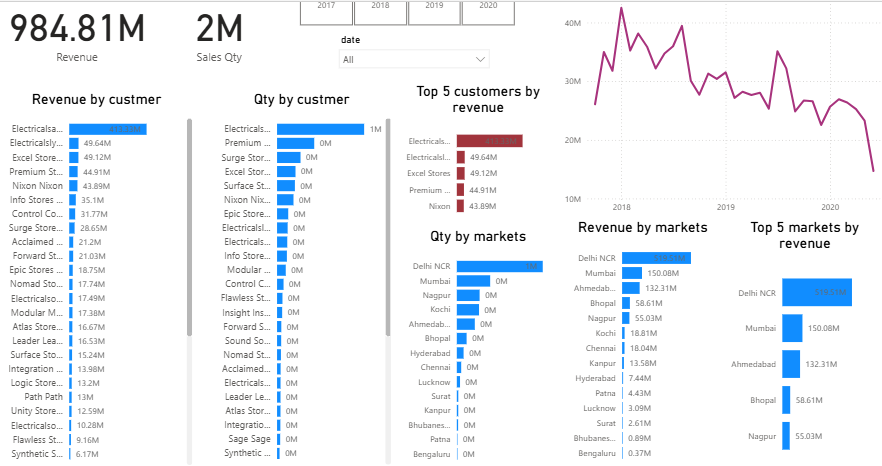

The dashboard page shown, as its layout file describes it:
{"tool":"powerbi","page":{"name":"Page 1","canvas":[1280,720],"ordinal":0},"visuals":[{"type":"card","fields":{"Values":["BaseMeasure.Revenue"]},"box":[0,0,230.4,176.7],"z":0},{"type":"card","fields":{"Values":["BaseMeasure.Sales Qty"]},"box":[230.4,0,179.3,176.7],"z":1000},{"type":"clusteredBarChart","title":"Revenue by custmer","fields":{"Y":["BaseMeasure.Revenue"],"Category":["sales customers.custmer_name","sales customers.custmer_name"]},"box":[0,176.2,286.3,543.7],"z":2000},{"type":"clusteredBarChart","title":"Qty by custmer","fields":{"Y":["BaseMeasure.Sales Qty"],"Category":["sales customers.custmer_name","sales customers.custmer_name"]},"box":[305,175.4,267.1,543.3],"z":3000},{"type":"slicer","fields":{"Values":["sales date.year"]},"box":[410.2,0,359.2,88.1],"z":4000},{"type":"slicer","fields":{"Values":["sales date.year","sales date.cy_date"]},"box":[481.7,88.1,236.7,71.6],"z":5000},{"type":"clusteredBarChart","title":"Qty by markets","fields":{"Y":["BaseMeasure.Sales Qty"],"Category":["sales markets.markets_name"]},"box":[572.6,373,239.5,346.8],"z":6000},{"type":"clusteredBarChart","title":"Revenue by markets","fields":{"Y":["BaseMeasure.Revenue"],"Category":["sales markets.markets_name","sales customers.custmer_name"]},"box":[812,360.6,235.4,359.2],"z":7000},{"type":"clusteredBarChart","title":"Top 5 markets by revenue","fields":{"Y":["BaseMeasure.Revenue"],"Category":["sales markets.markets_name"]},"box":[1047.4,360.6,232.6,359.2],"z":8000},{"type":"clusteredBarChart","title":"Top 5 customers by revenue","fields":{"Y":["BaseMeasure.Revenue"],"Category":["sales customers.custmer_name"]},"box":[572.6,163.8,239.5,200.9],"z":9000},{"type":"lineChart","title":"Revenue Trend","fields":{"Y":["BaseMeasure.Revenue"],"Category":["sales date.cy_date.Variation.Date Hierarchy.Year","sales date.cy_date.Variation.Date Hierarchy.Month","sales date.cy_date.Variation.Date Hierarchy.Day"]},"box":[812,0,468,360.6],"z":10000}]}

Visuals, with their boxes on the page's 1280x720 design canvas (x1, y1, x2, y2). These are canvas units, not pixel positions in the 882x466 screenshot, which may show the page scaled, cropped or inside an application window:
card - BaseMeasure.Revenue: BBox(0, 0, 230, 177)
card - BaseMeasure.Sales Qty: BBox(230, 0, 410, 177)
"Revenue by custmer" clusteredBarChart: BBox(0, 176, 286, 720)
"Qty by custmer" clusteredBarChart: BBox(305, 175, 572, 719)
slicer - sales date.year: BBox(410, 0, 769, 88)
slicer - sales date.year x sales date.cy_date: BBox(482, 88, 718, 160)
"Qty by markets" clusteredBarChart: BBox(573, 373, 812, 720)
"Revenue by markets" clusteredBarChart: BBox(812, 361, 1047, 720)
"Top 5 markets by revenue" clusteredBarChart: BBox(1047, 361, 1280, 720)
"Top 5 customers by revenue" clusteredBarChart: BBox(573, 164, 812, 365)
"Revenue Trend" lineChart: BBox(812, 0, 1280, 361)
